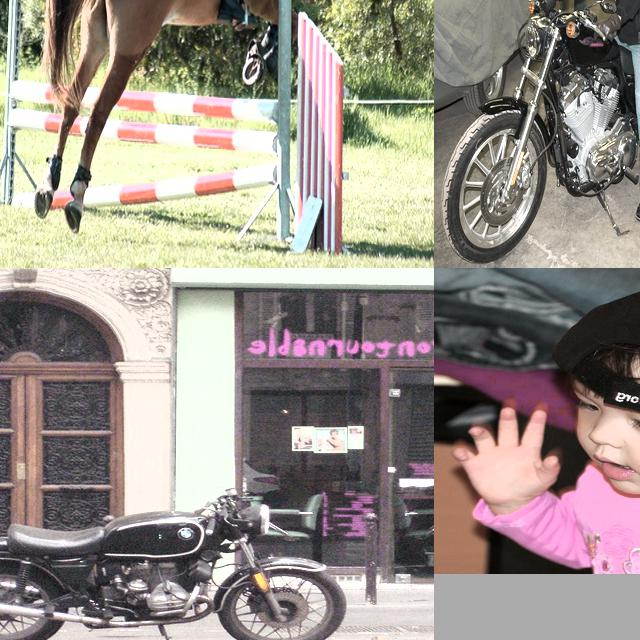car: (315, 113, 434, 192), (188, 111, 287, 174), (128, 109, 205, 159), (92, 100, 142, 152), (0, 88, 37, 156), (61, 107, 103, 144), (37, 104, 74, 140)
chair: (574, 14, 613, 56)
dog: (210, 467, 378, 575)
person: (30, 277, 424, 640)
sofa: (506, 13, 559, 48)
